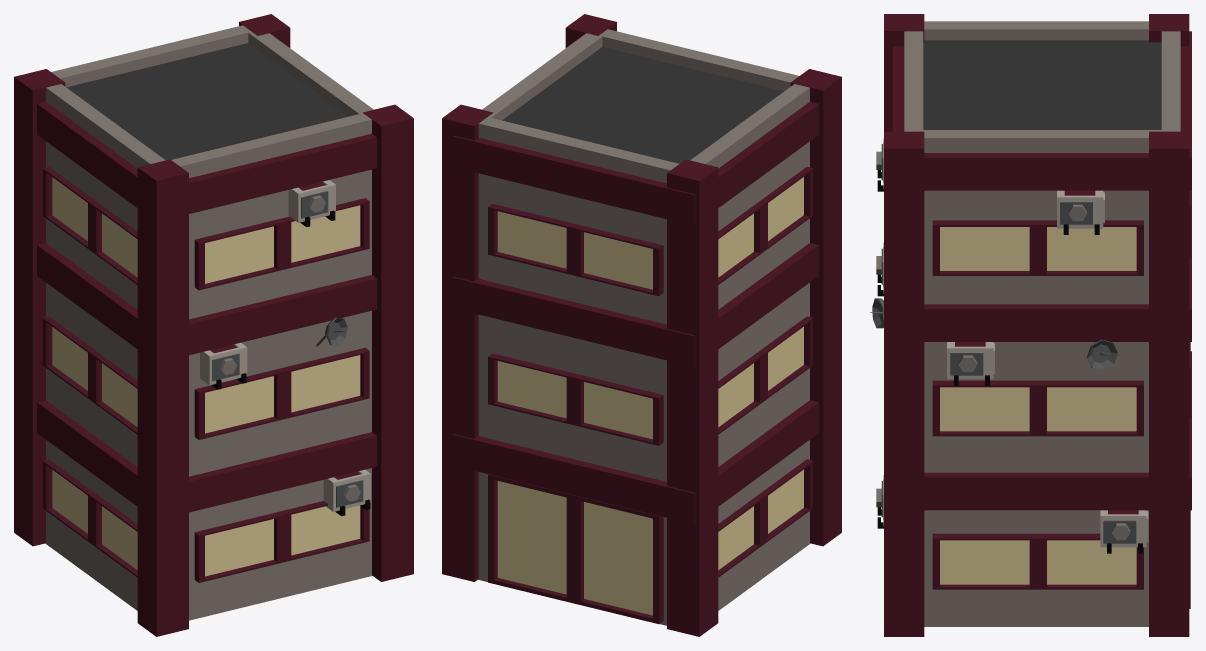
The model's file is Building2C.fbx.
3 renders of one model, left to right at view 1: azimuth 30°, elevation 25°; view 2: azimuth 150°, elevation 25°; view 3: azimuth 270°, elevation 25°, orthographic. The views are drawn at different scales.
Parts seen in each view (by area): view 1: Cylinder.020_Cylinder.003; view 2: Cylinder.020_Cylinder.003; view 3: Cylinder.020_Cylinder.003.
Part boxes in pixels (x1,y1,x2,y2): Cylinder.020_Cylinder.003: (14,14,413,636); Cylinder.020_Cylinder.003: (442,14,841,636); Cylinder.020_Cylinder.003: (870,14,1191,636).
Size of the model in its own units: 4.62 by 7.6 by 4.53.
